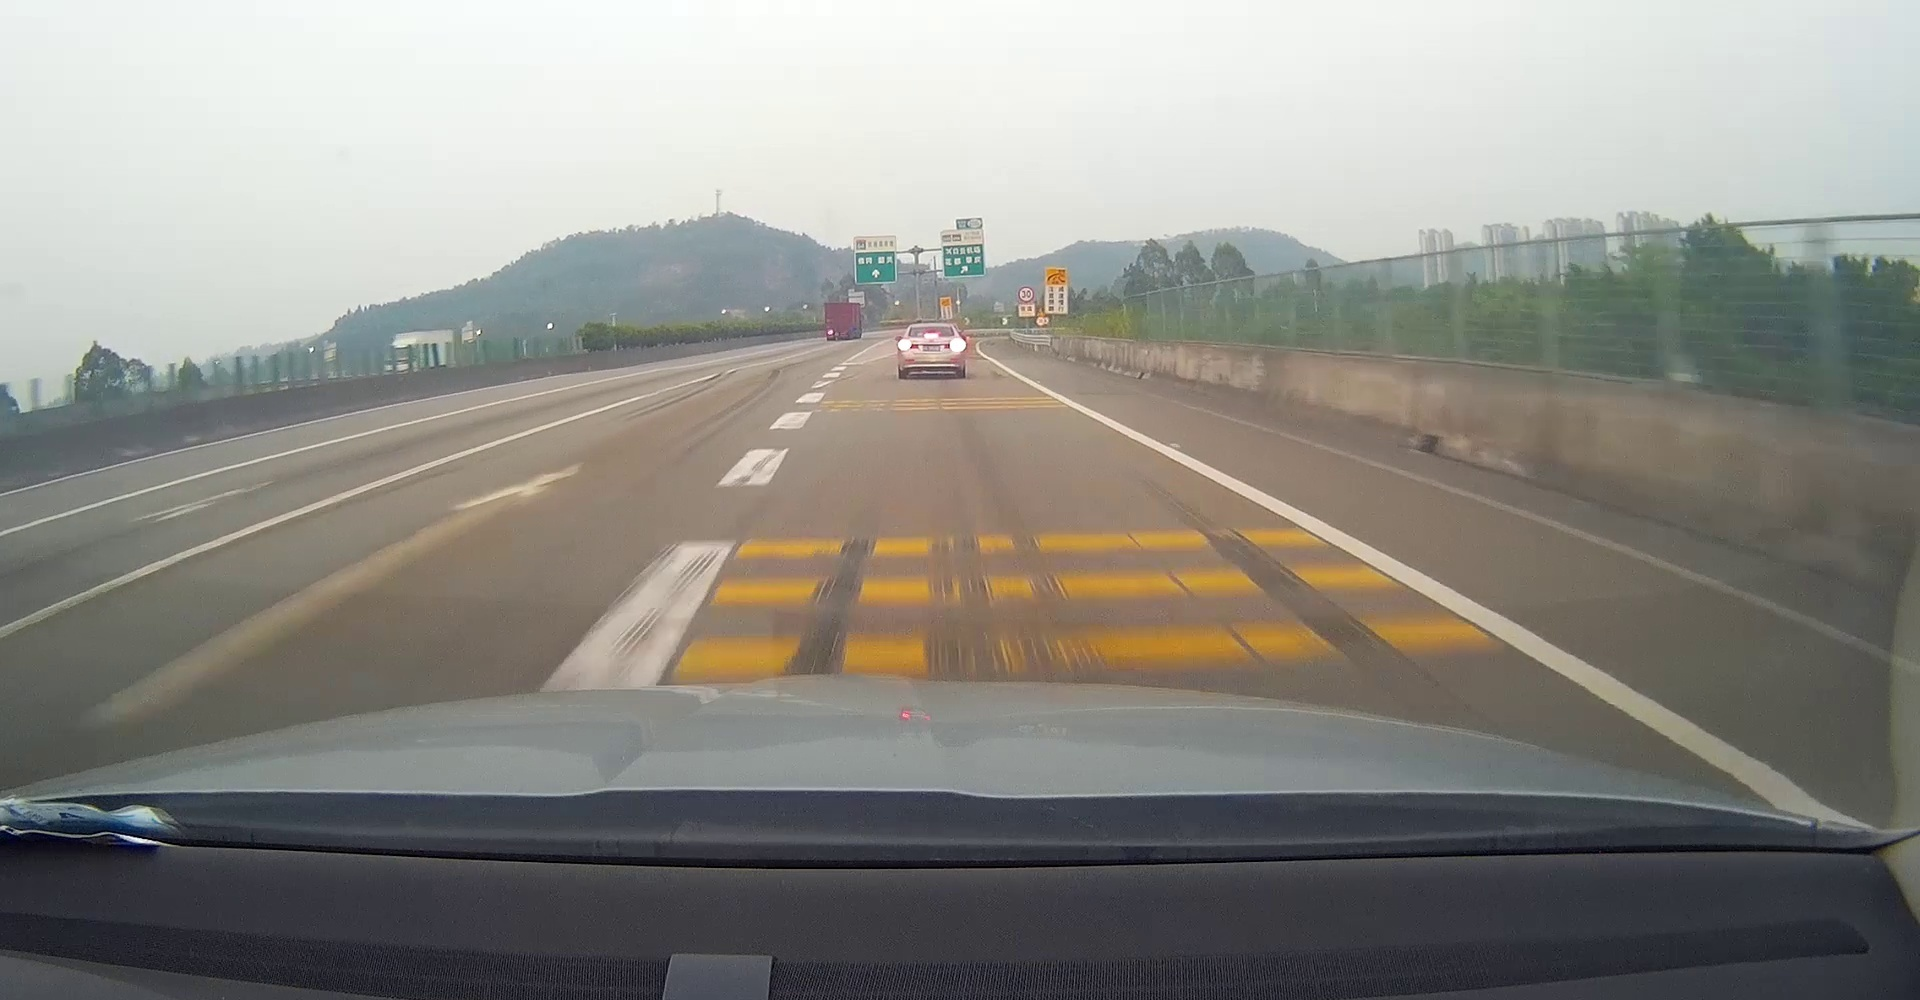L_light: (899, 341, 918, 349)
R_light: (943, 341, 963, 349)
T_light: (926, 334, 937, 338)
day-brake: (897, 324, 963, 379)
